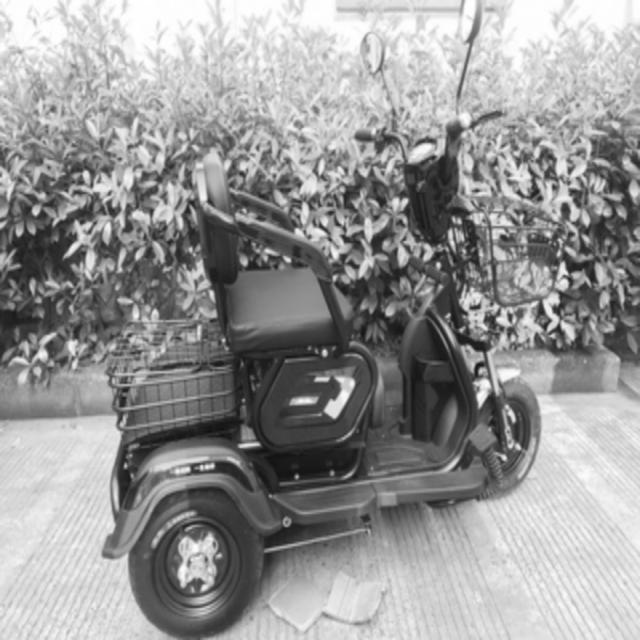tricycle: (101, 0, 544, 638)
